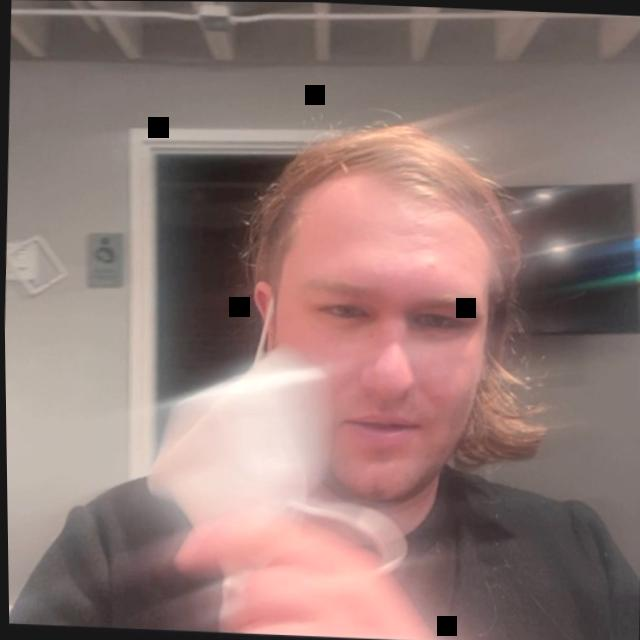NO-Mask: (249, 112, 542, 558)
